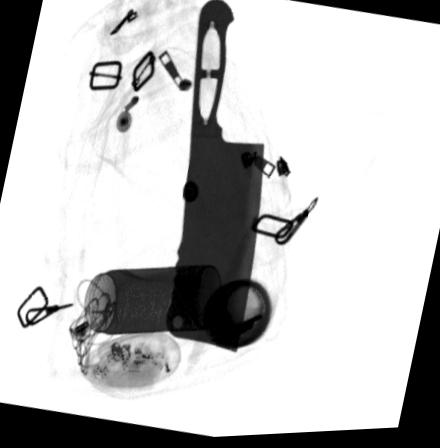Knife: (162, 0, 266, 355)
